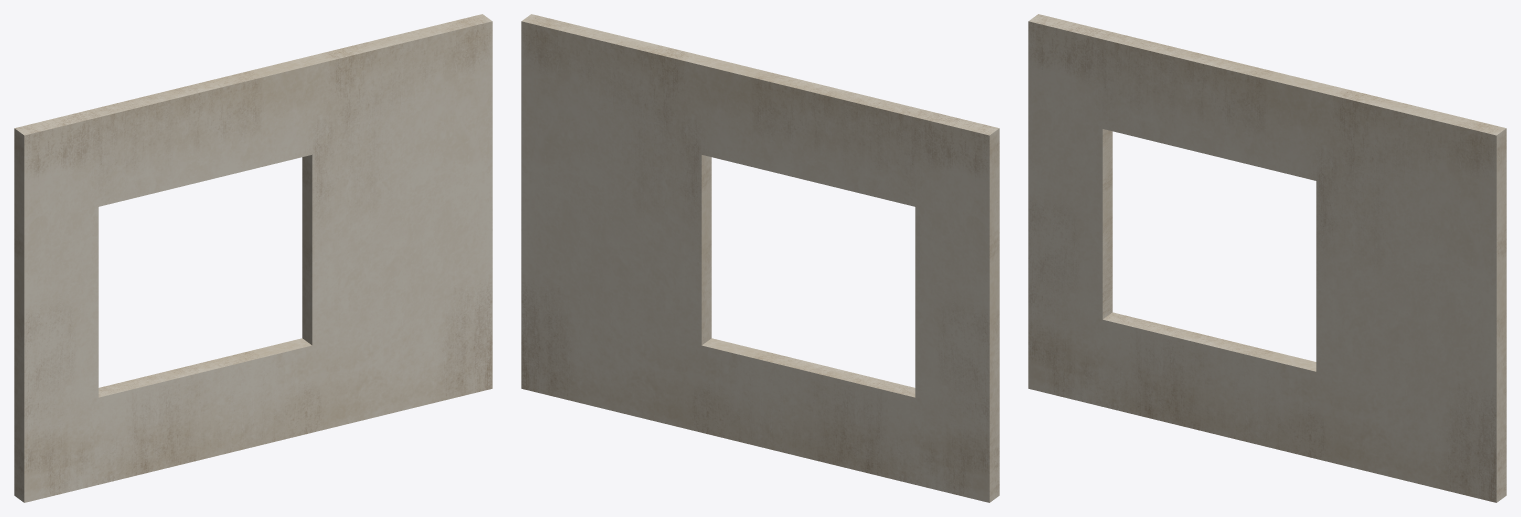
Rendered from MSG_BGLR_Wall_win_02.FBX.
The picture shows the model from 3 angles, left to right: view 1: azimuth 30°, elevation 25°; view 2: azimuth 150°, elevation 25°; view 3: azimuth 330°, elevation 25°; orthographic projection.
Parts seen in each view (by area): view 1: Box111; view 2: Box111; view 3: Box111.
Part boxes in pixels (bbox=[...]): Box111: bbox=[14, 14, 492, 502]; Box111: bbox=[521, 14, 999, 502]; Box111: bbox=[1028, 14, 1506, 502].
Size of the model in its own units: 1000 by 750 by 36.88.
